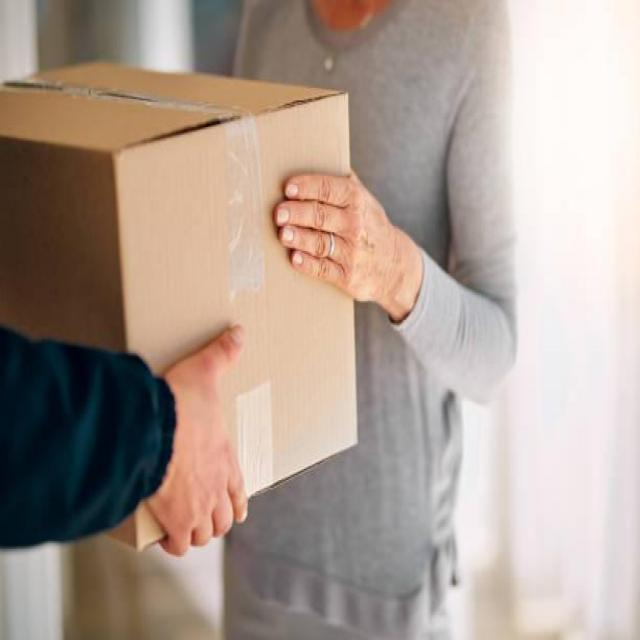box: (0, 57, 372, 552)
